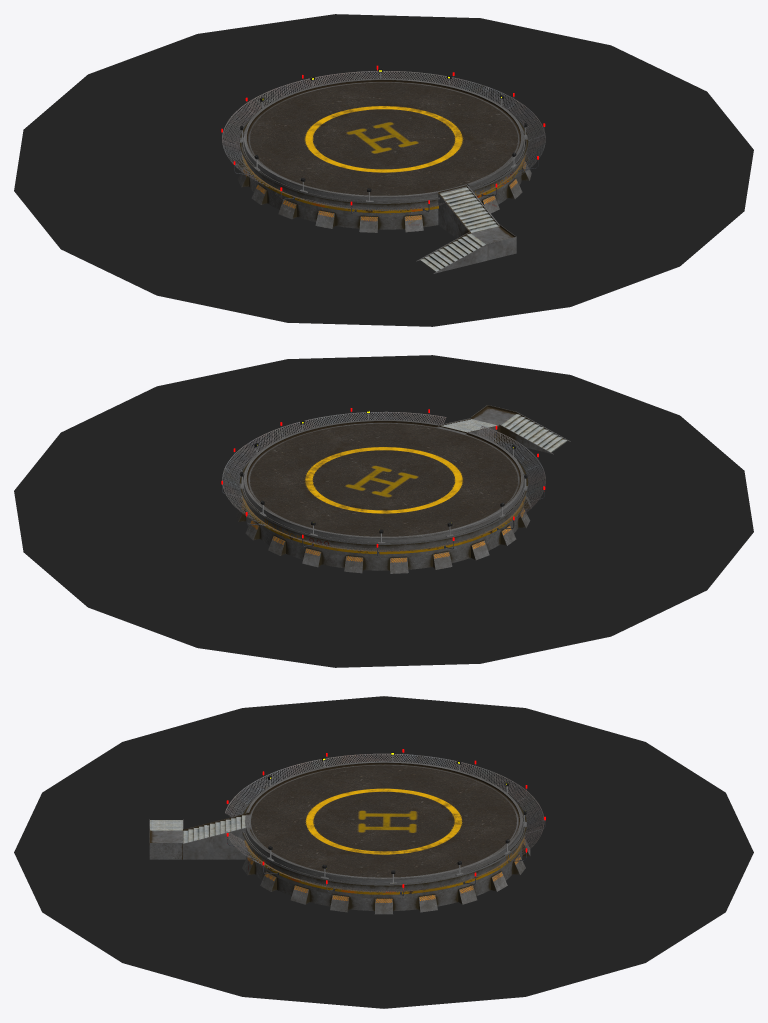
Rendered from heliport_helipad_air_base_helicopter.glb.
3 renders of one model, top to bottom at view 1: azimuth 30°, elevation 25°; view 2: azimuth 150°, elevation 25°; view 3: azimuth 270°, elevation 25°, orthographic.
Parts seen in each view (by area): view 1: Object_2, Object_4, Object_5, Object_10, Object_6, Object_3, Object_11; view 2: Object_2, Object_4, Object_5, Object_10, Object_6, Object_3, Object_11; view 3: Object_2, Object_4, Object_5, Object_10, Object_6, Object_3, Object_11.
Part boxes in pixels (x1=…): Object_2: x1=14, y1=14, x2=753, y2=326; Object_4: x1=244, y1=78, x2=523, y2=202; Object_5: x1=236, y1=110, x2=531, y2=232; Object_10: x1=222, y1=71, x2=545, y2=210; Object_6: x1=416, y1=185, x2=516, y2=273; Object_3: x1=420, y1=187, x2=499, y2=272; Object_11: x1=242, y1=155, x2=525, y2=213; Object_2: x1=14, y1=355, x2=753, y2=667; Object_4: x1=244, y1=419, x2=523, y2=542; Object_5: x1=236, y1=451, x2=531, y2=573; Object_10: x1=222, y1=411, x2=545, y2=551; Object_6: x1=438, y1=405, x2=570, y2=454; Object_3: x1=441, y1=414, x2=567, y2=452; Object_11: x1=242, y1=496, x2=525, y2=554; Object_2: x1=14, y1=696, x2=753, y2=1008; Object_4: x1=245, y1=761, x2=522, y2=883; Object_5: x1=242, y1=793, x2=530, y2=914; Object_10: x1=225, y1=753, x2=544, y2=892; Object_6: x1=149, y1=813, x2=247, y2=859; Object_3: x1=150, y1=815, x2=245, y2=843; Object_11: x1=244, y1=836, x2=524, y2=894.
Size of the model in its own units: 3728 by 235 by 3728.
10 materials, 8 textured.
